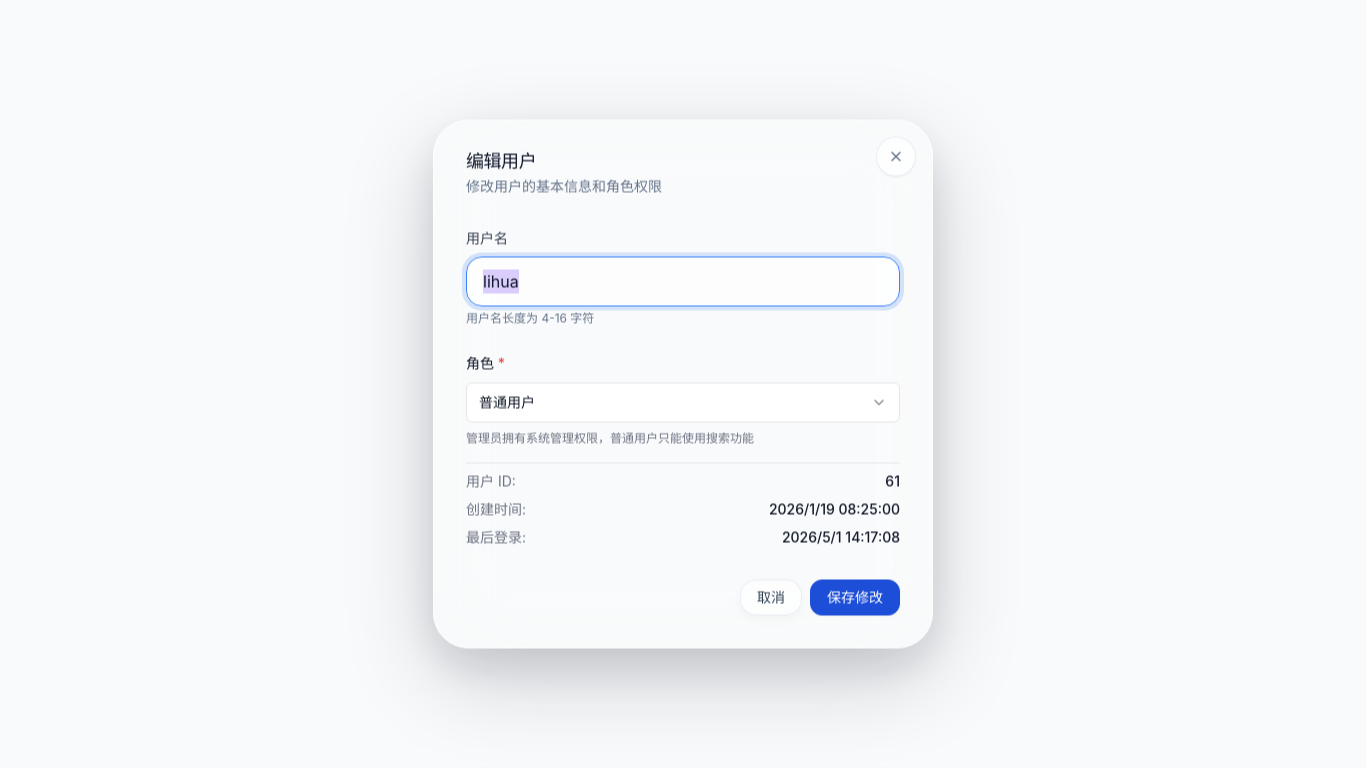
Scenario: EditUserDialog › 在共享弹窗壳中打开角色下拉时，浮层层级高于 dialog 内容层
Click the dropdown named "角色": (507, 402) [466,382,900,422]
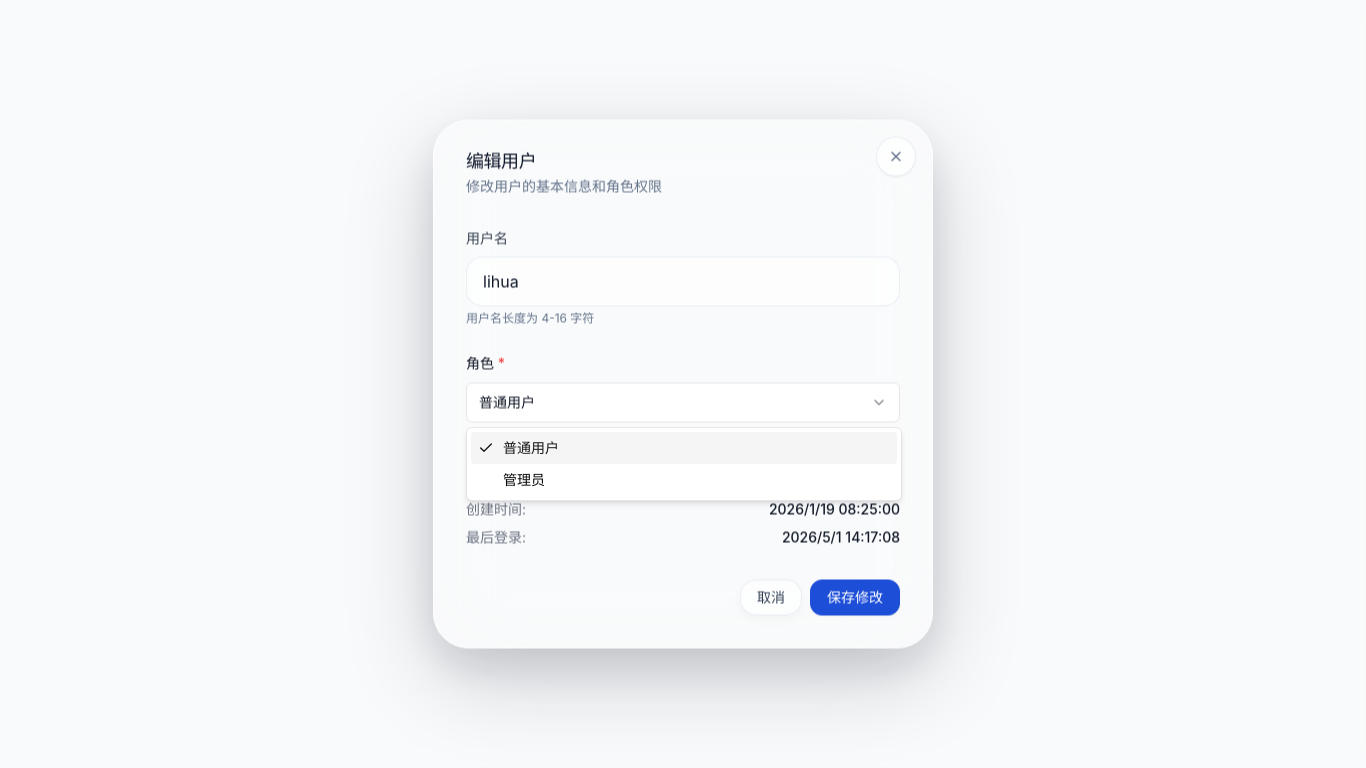
Expected: the option "管理员" is shown, [503,471,545,488]
